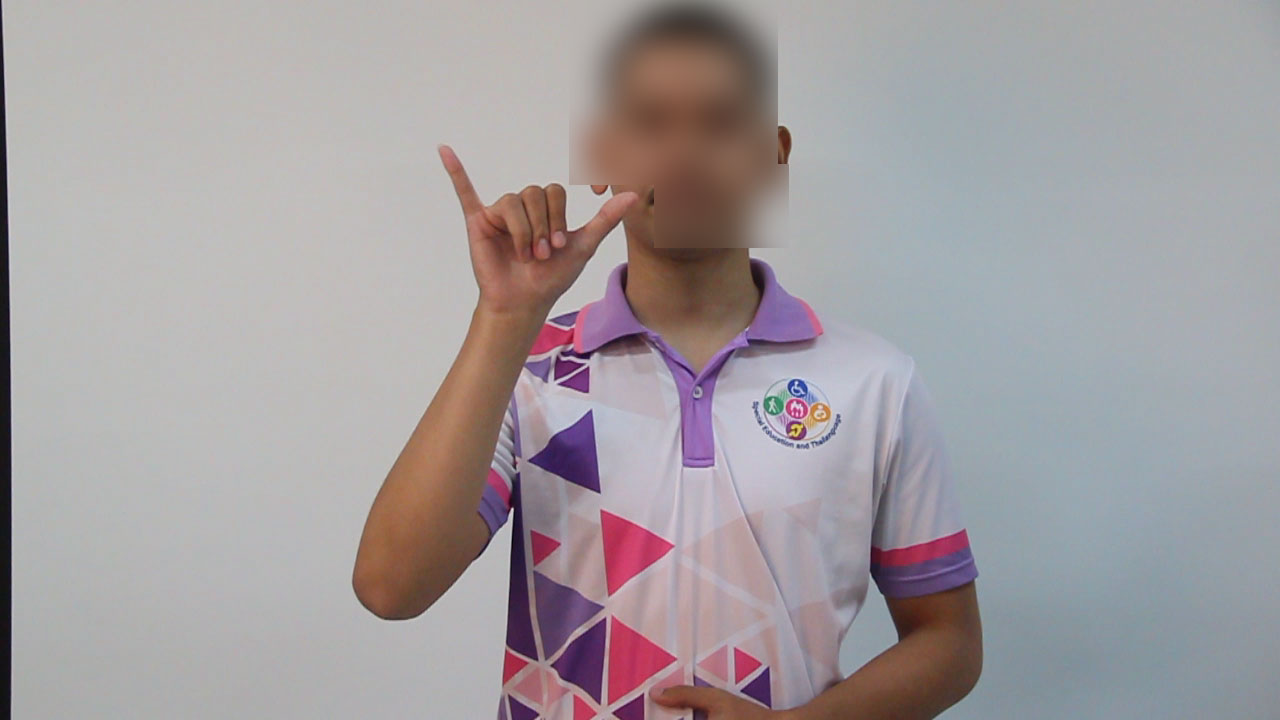yor: (433, 134, 645, 320)
